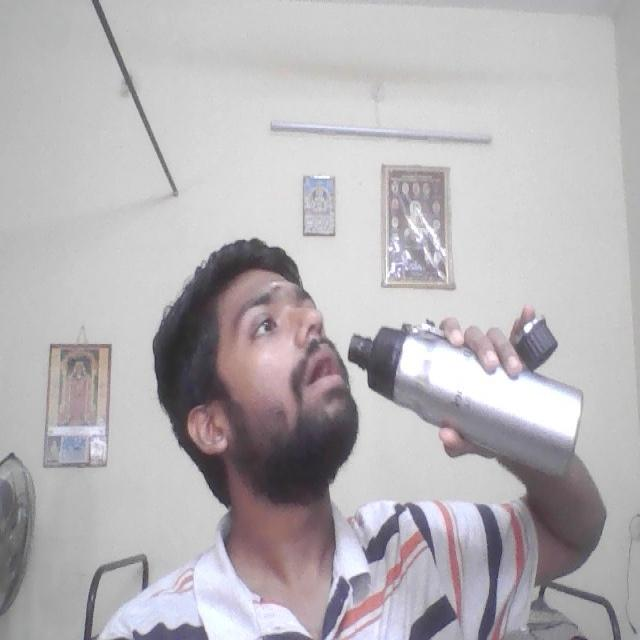Drinking: (348, 308, 595, 490)
